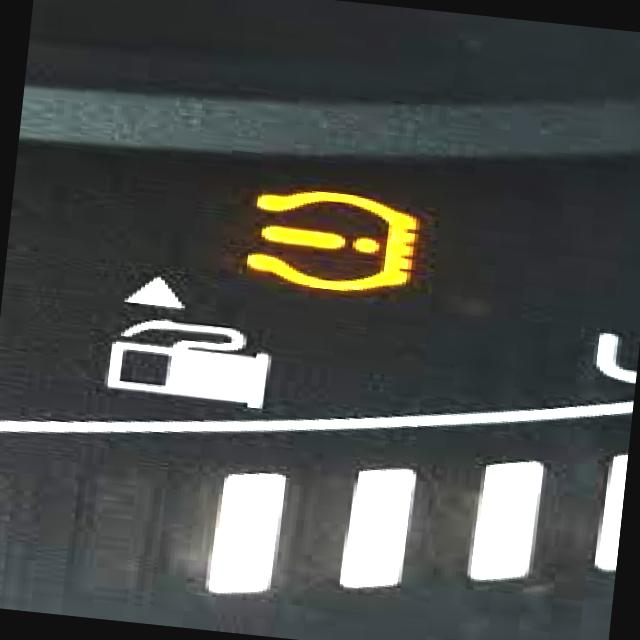kontrolka: (234, 171, 438, 303)
